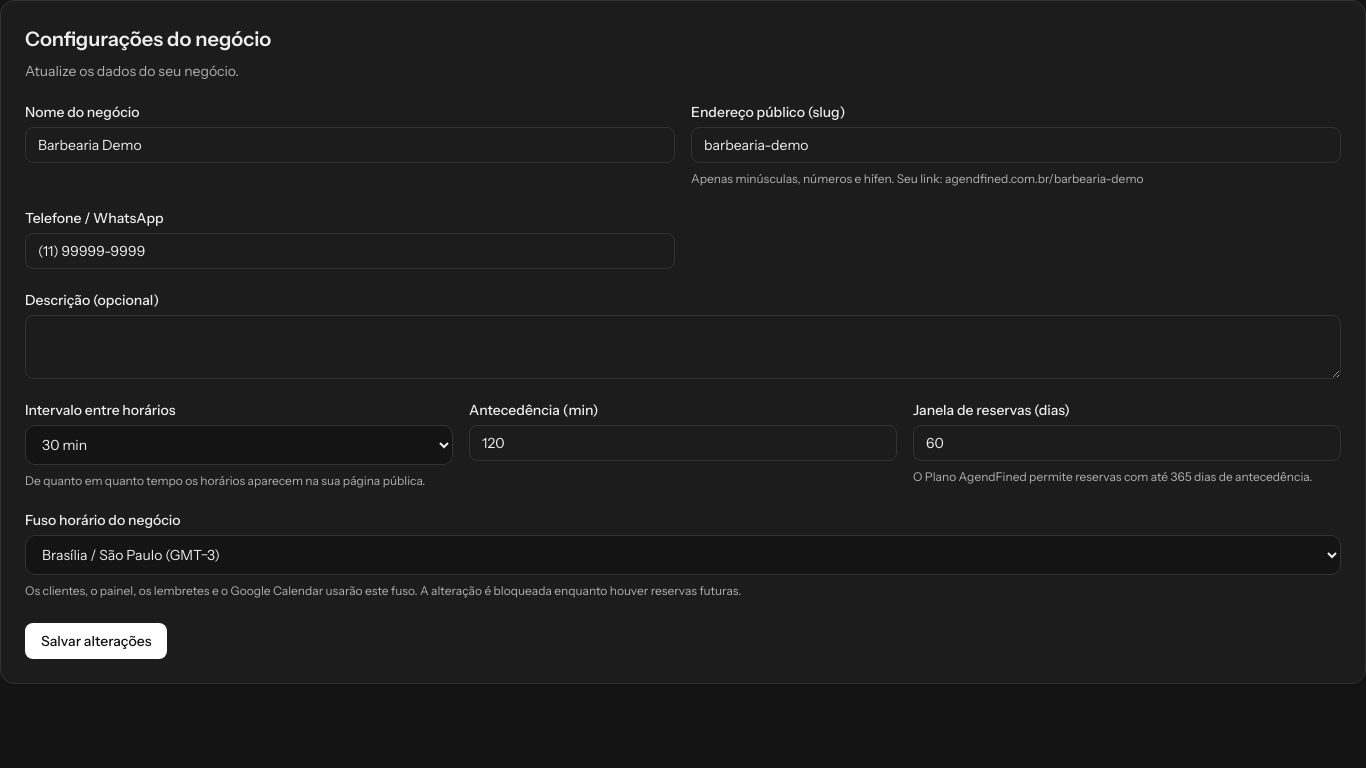
Scenario: polimento pós-beta (#149) › volta o fuso para o salvo quando o servidor recusa a troca
Select "Manaus (GMT−4)" in the dropdown labelled "Fuso horário do negócio": [683, 555] box [25,535,1341,575]
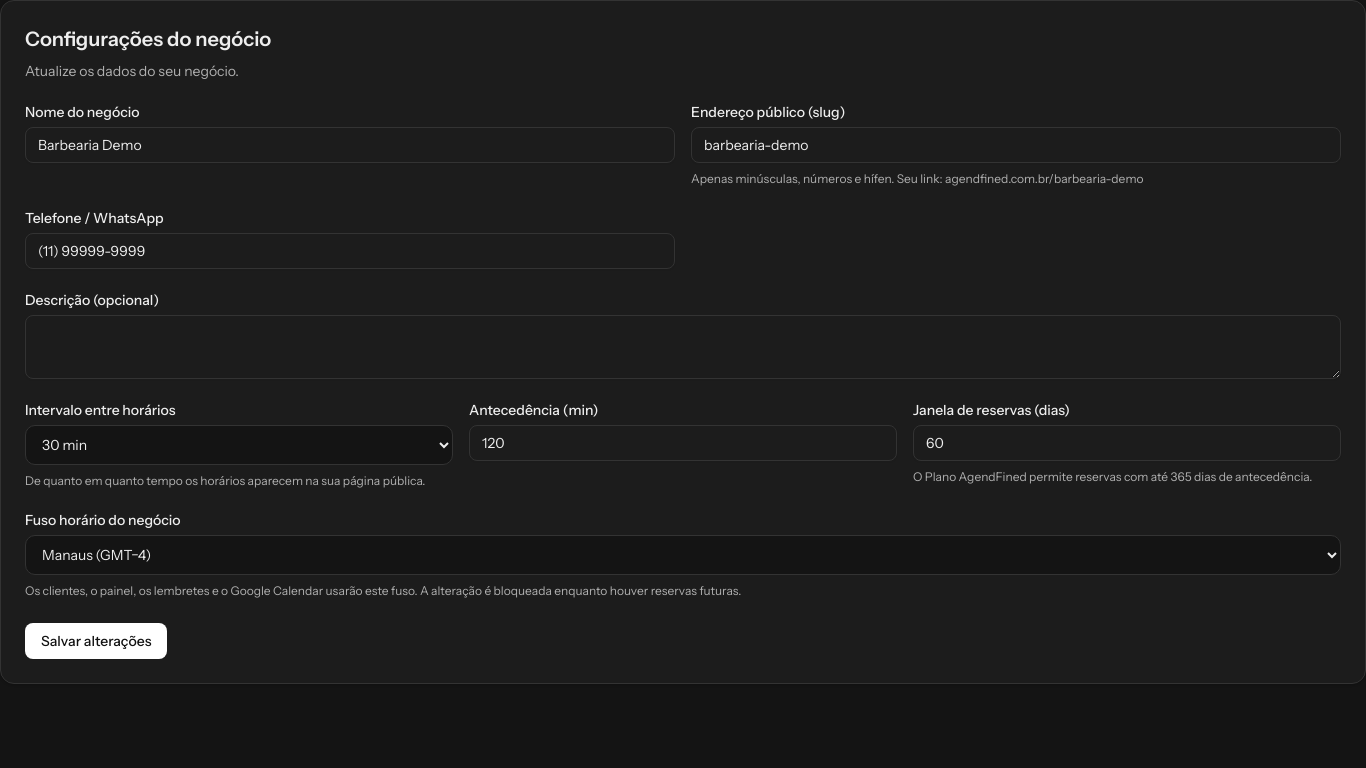
Click the button "Salvar alterações": [96, 641] box [25,623,167,659]
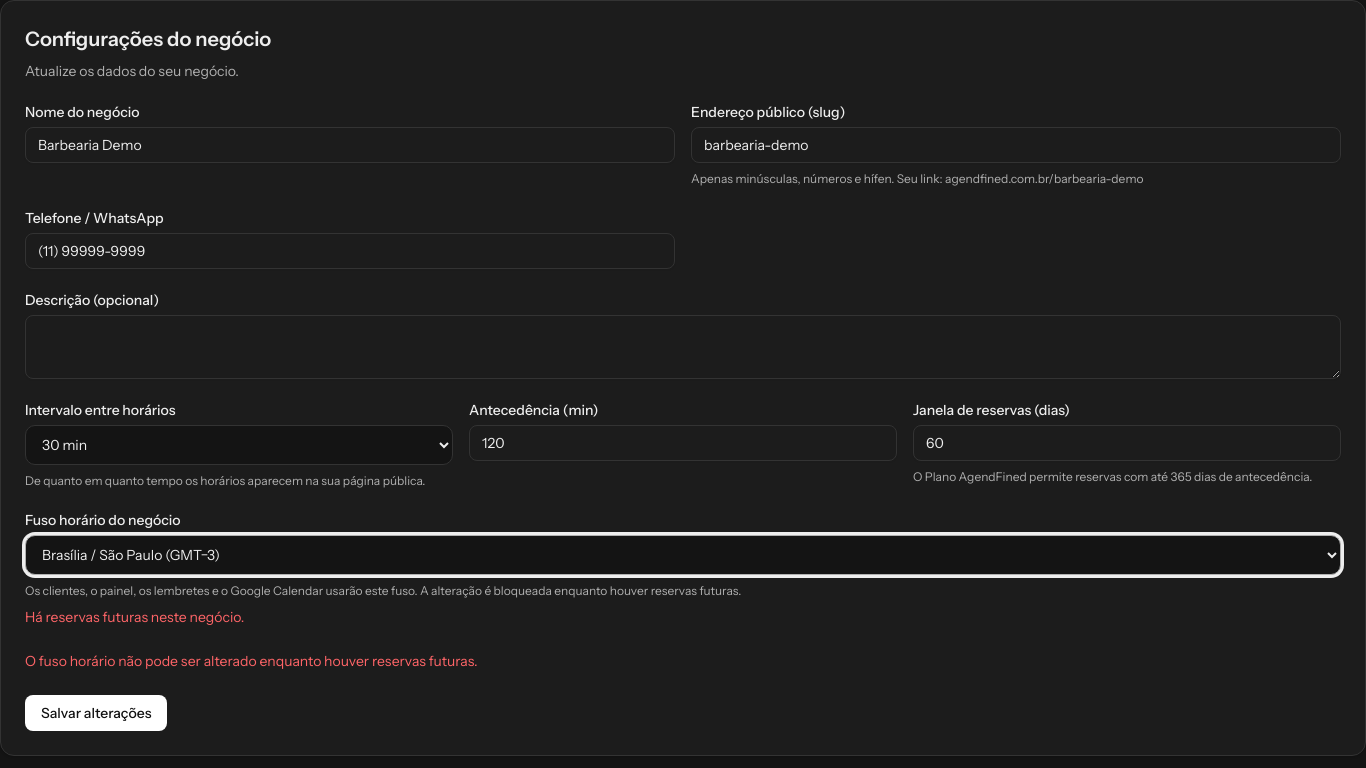
Expected: the text "Há reservas futuras neste negócio." is shown, [25,608,244,626]
